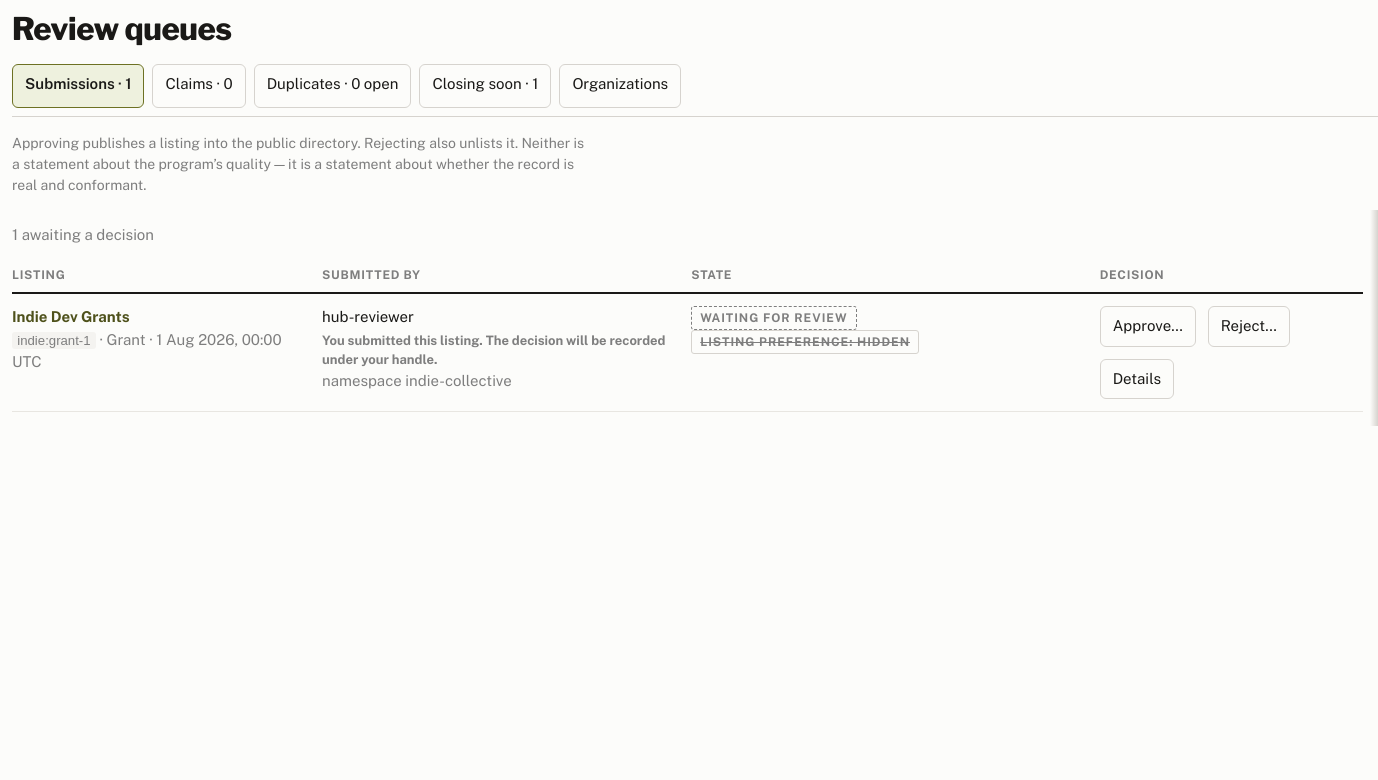
Test: deciding a submission › discloses a reviewer deciding their own submission in the row and confirmation
The width and height of the screenshot is (1378, 780).
Expected: the text "You submitted this listing. The decision will be recorded under your handle." is shown, [322, 333, 666, 367]
Click the button "Approve…" at (1148, 327), box [1100, 306, 1196, 347]
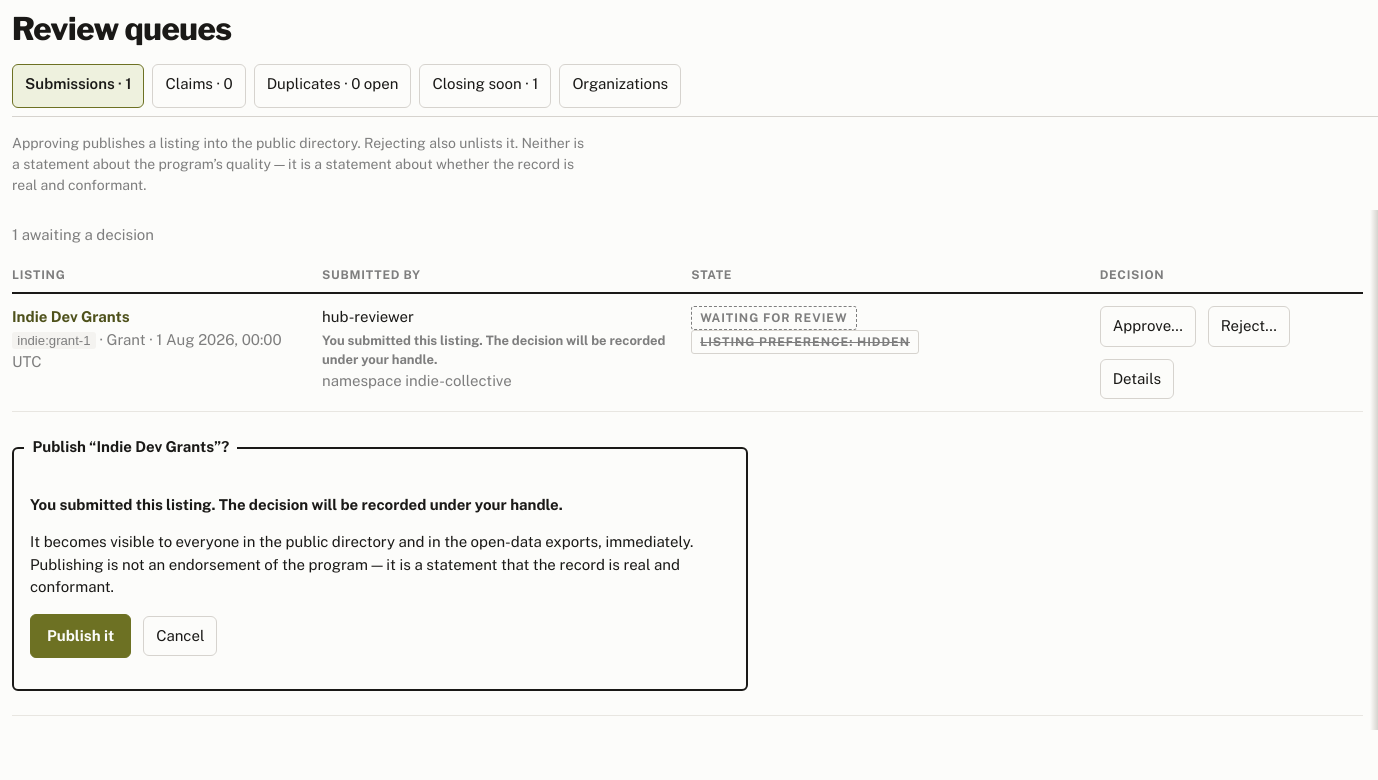
Expected: the text "You submitted this listing. The decision will be recorded under your handle." below "Publish “Indie Dev Grants”?" is shown, [30, 496, 563, 513]
